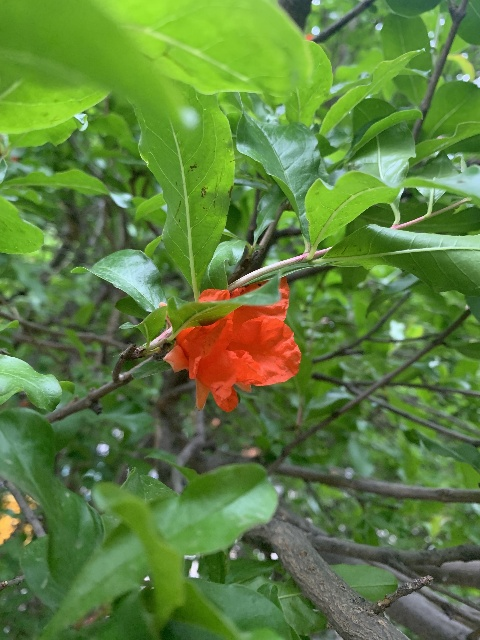flower: (164, 277, 302, 412)
